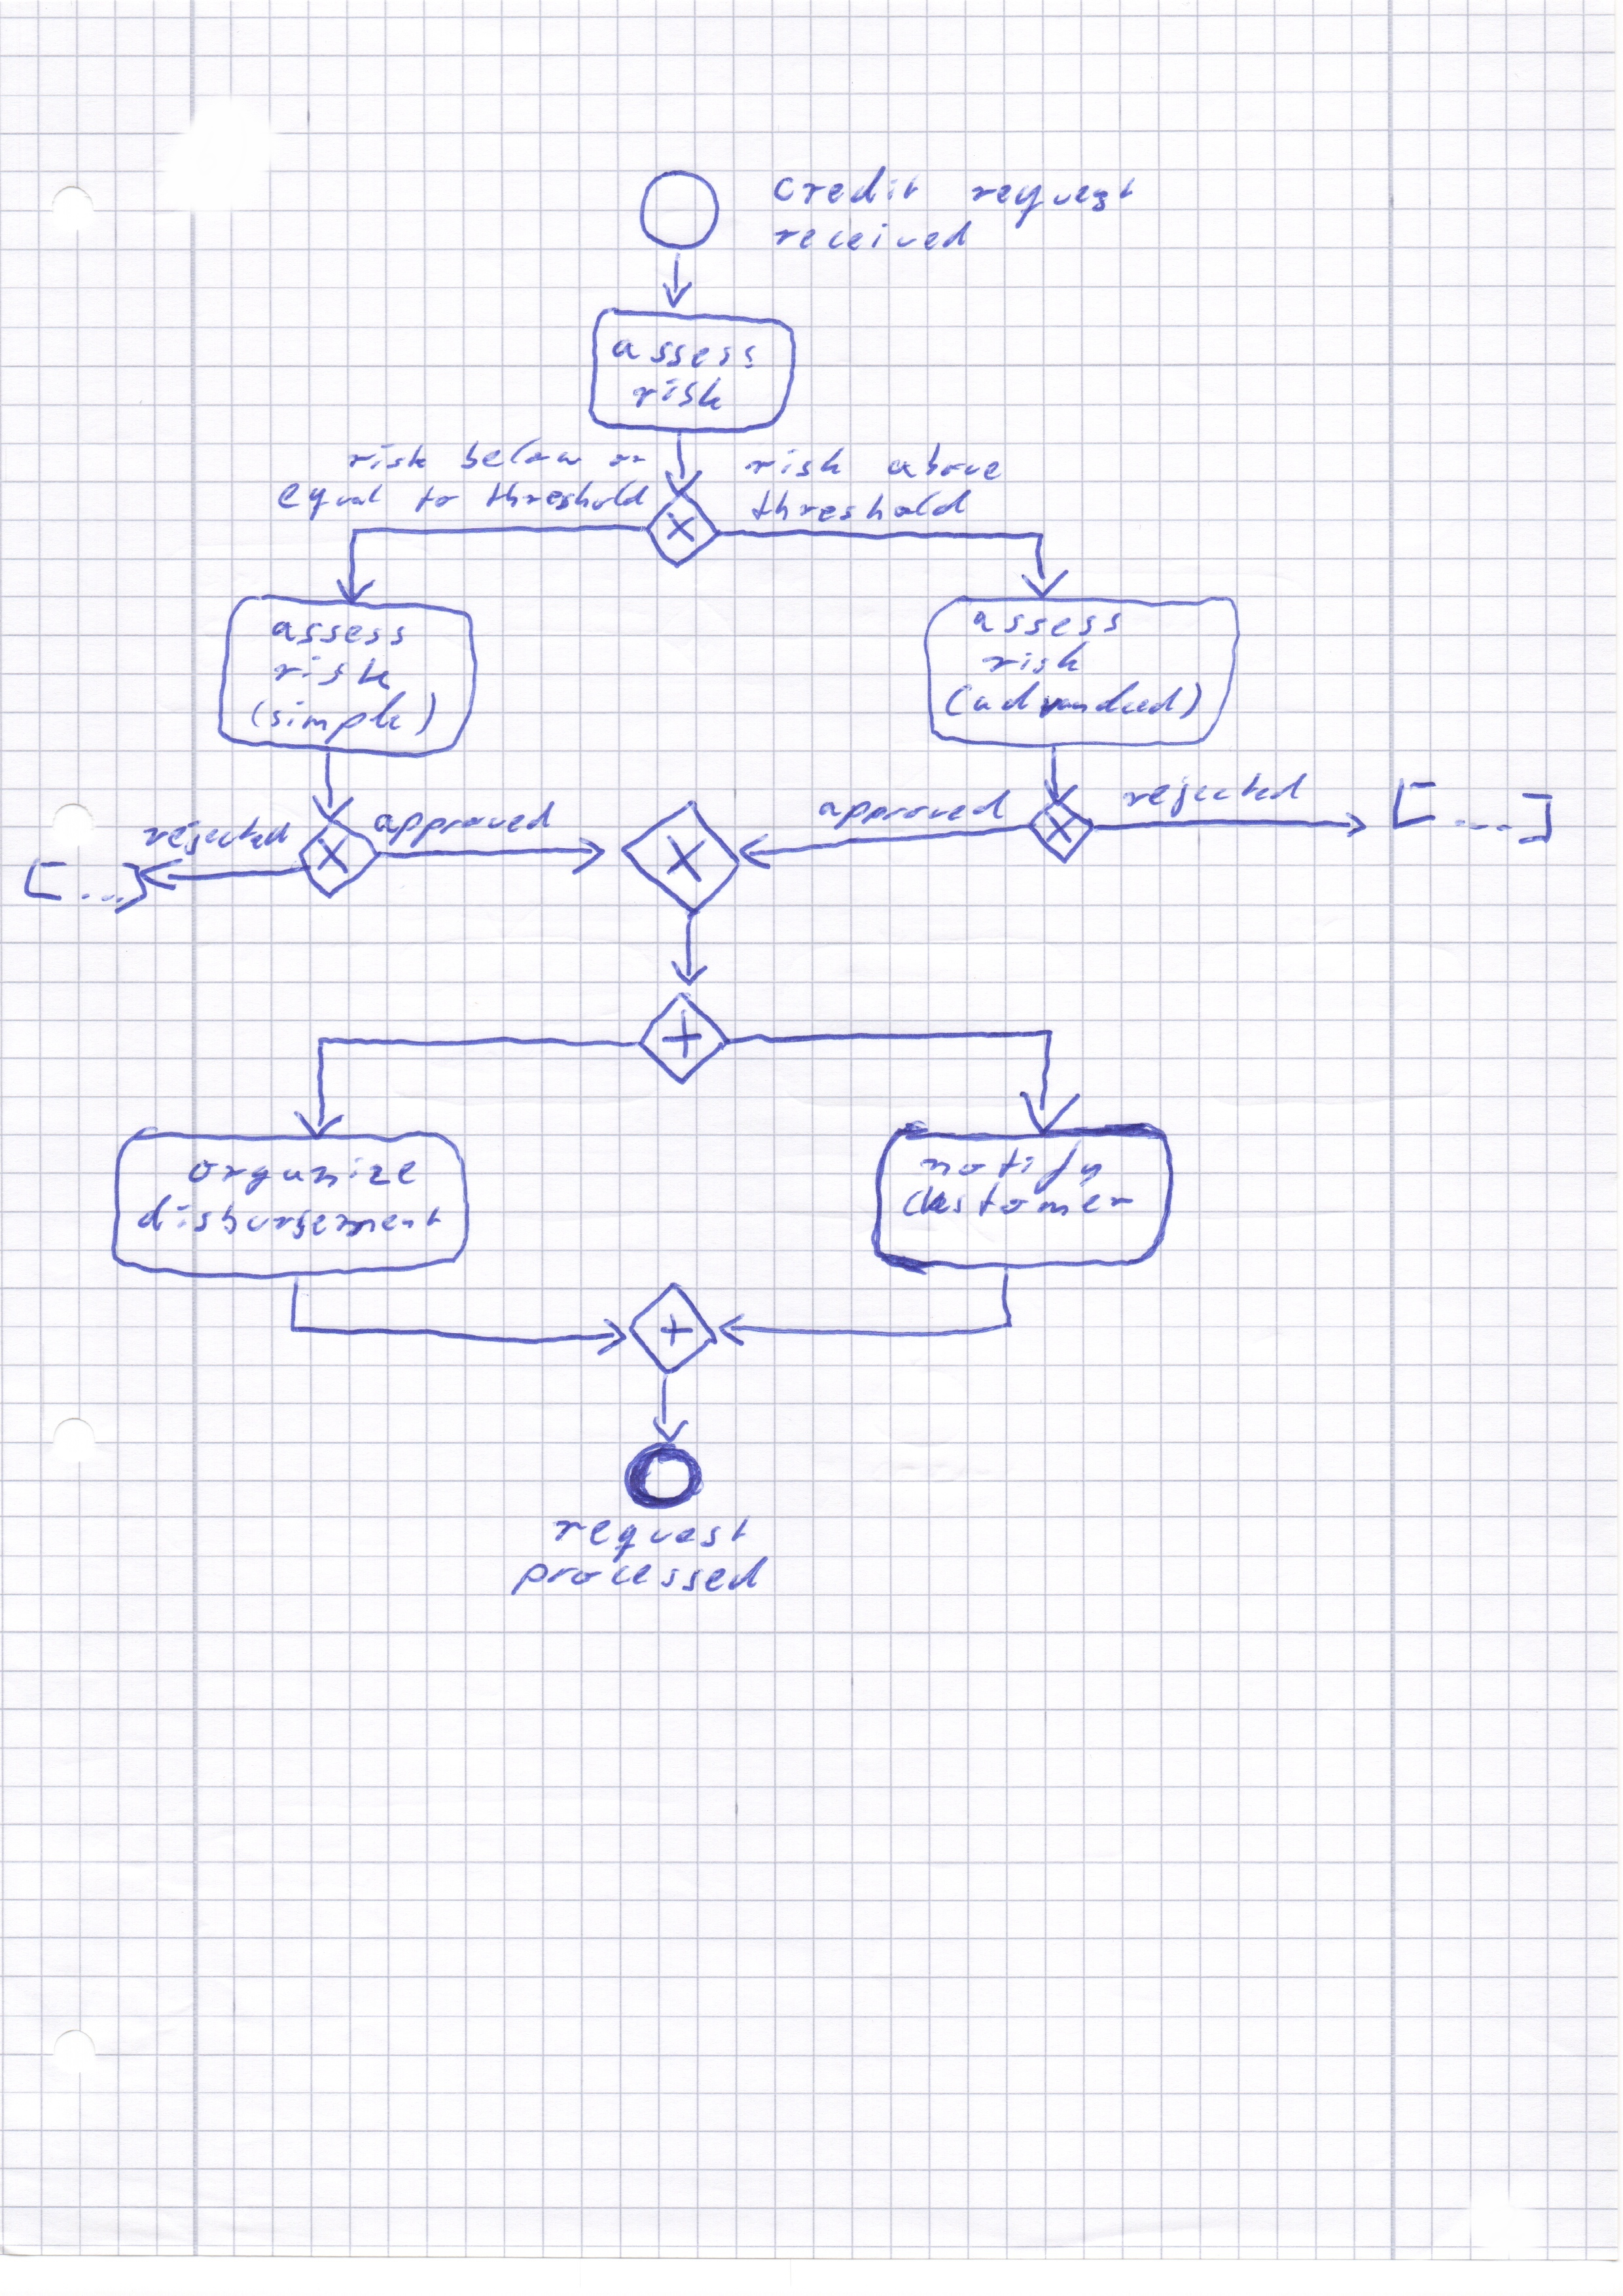(advanced): (941, 676, 1205, 722)
(simple): (249, 687, 439, 750)
[...]: (1384, 775, 1562, 848), (19, 852, 155, 917)
above: (884, 439, 1006, 487)
approved: (371, 796, 559, 852), (811, 785, 1015, 834)
assess: (608, 334, 761, 374), (970, 608, 1128, 643), (269, 618, 408, 650)
below: (455, 434, 588, 474)
credit: (769, 162, 924, 209)
customer: (899, 1180, 1142, 1223)
disbursement: (133, 1191, 446, 1244)
equal: (274, 478, 388, 525)
notify: (913, 1135, 1107, 1200)
or: (606, 450, 650, 471)
organize: (184, 1152, 423, 1200)
processed: (508, 1553, 773, 1600)
received: (768, 216, 978, 256)
rejected: (1124, 768, 1310, 820), (139, 812, 295, 857)
request: (546, 1513, 755, 1567), (966, 170, 1143, 234)
risk: (269, 650, 395, 694), (739, 441, 850, 483), (978, 638, 1093, 678), (631, 372, 727, 415), (343, 437, 432, 474)
threshold: (747, 485, 975, 527), (483, 474, 655, 515)
to: (411, 483, 464, 516)
